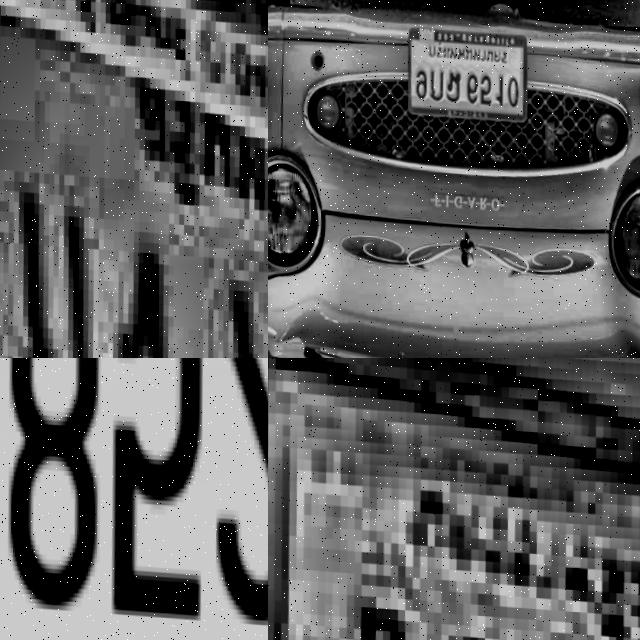license-plate: (268, 358, 640, 640), (0, 0, 268, 358), (0, 358, 268, 640), (400, 22, 531, 125)
